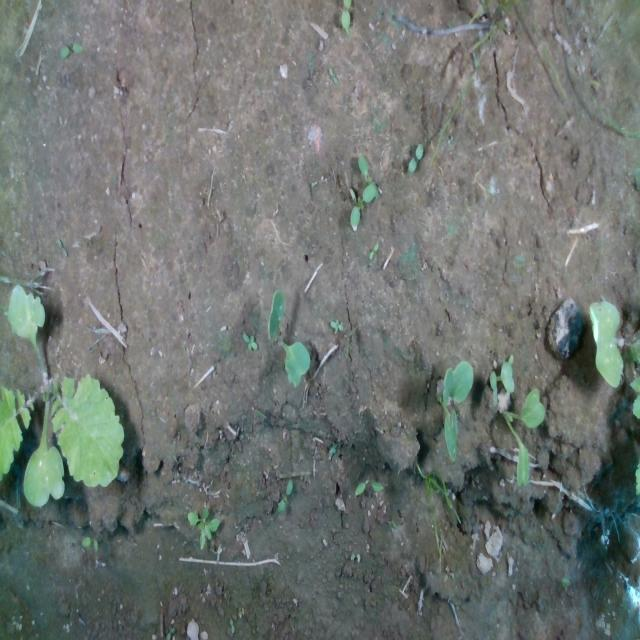weed: (407, 139, 433, 177), (353, 475, 385, 503), (237, 328, 259, 354), (325, 314, 348, 338), (279, 475, 291, 513), (326, 63, 342, 88), (367, 234, 378, 264)
